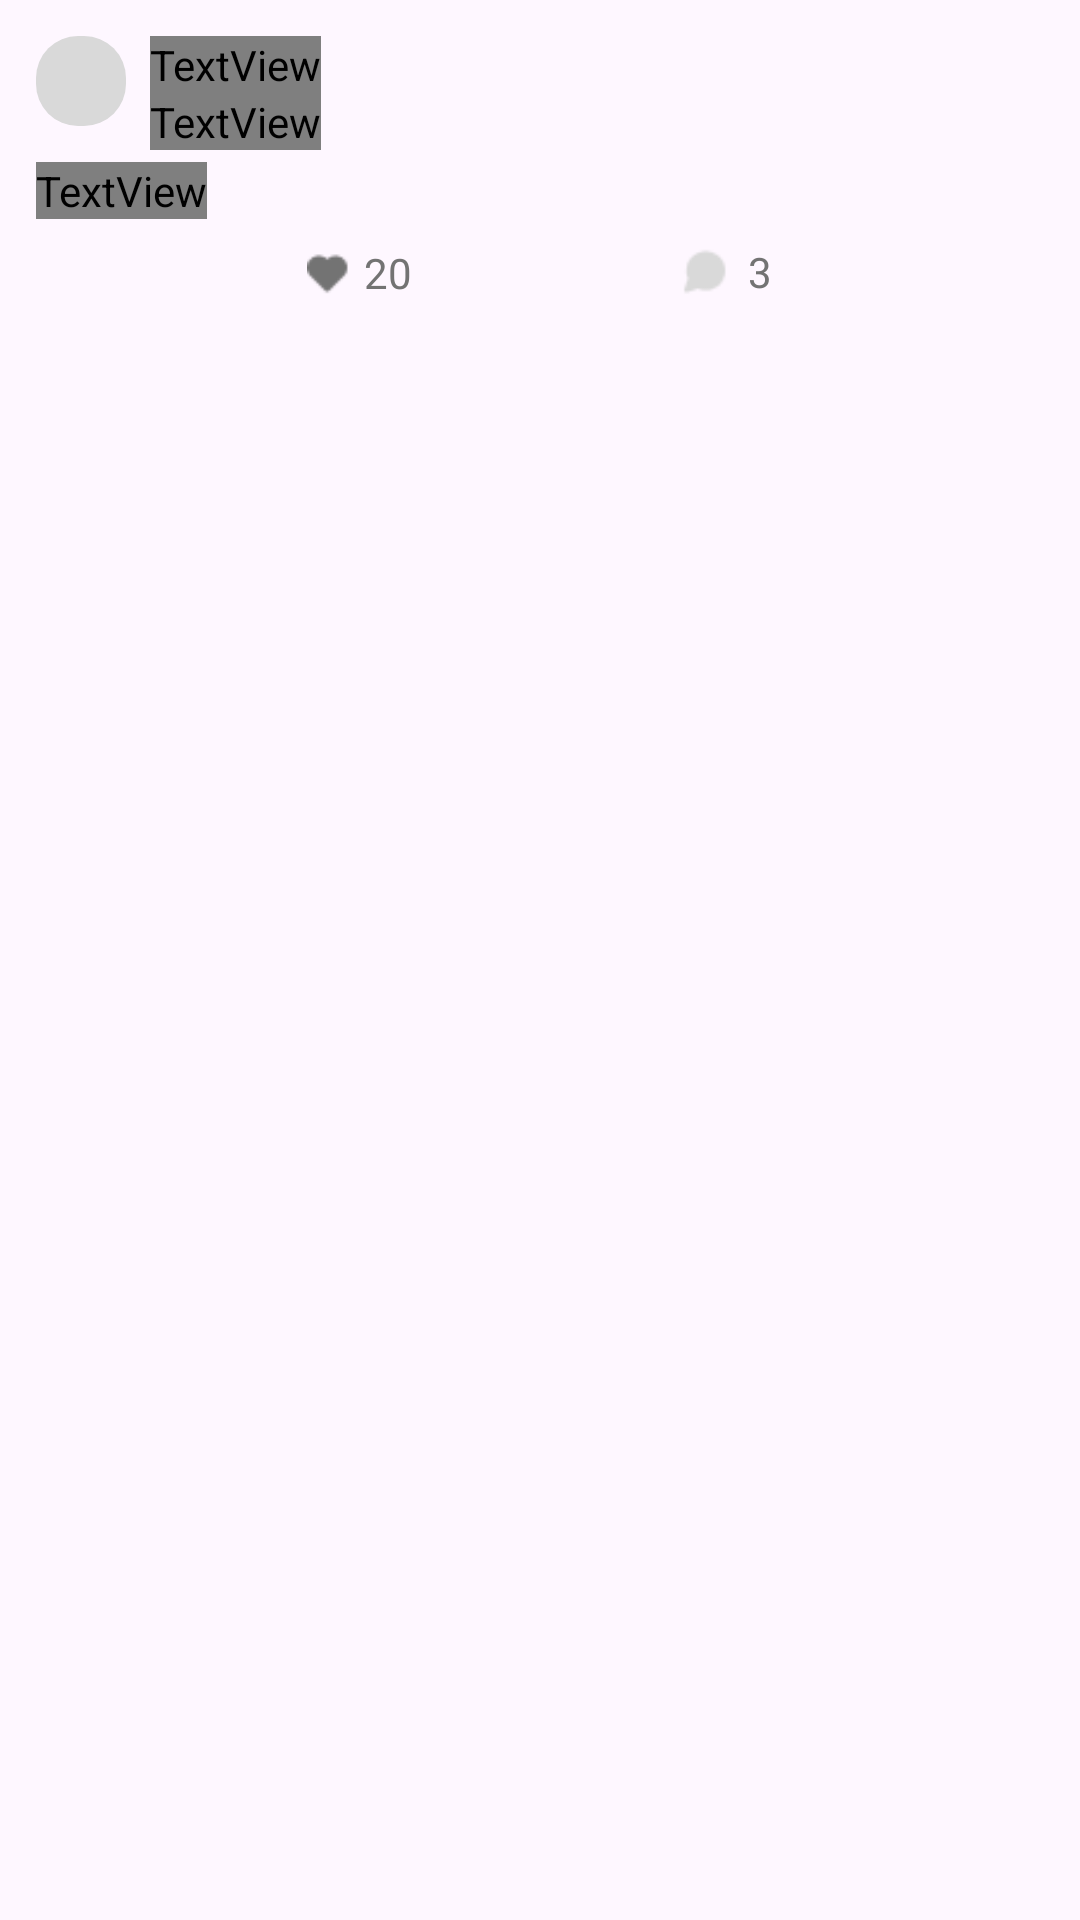

Screen size 1080w x 1920h. Icon name, then its box in pixels as bbox=(x1, y1, x2, y2):
heart: bbox=(307, 254, 348, 293)
message circle: bbox=(685, 252, 725, 291)
